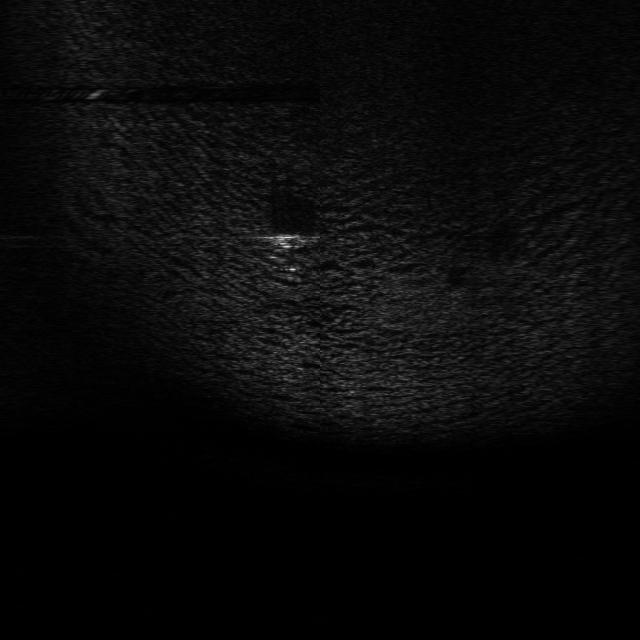plane: (266, 230, 320, 253)
